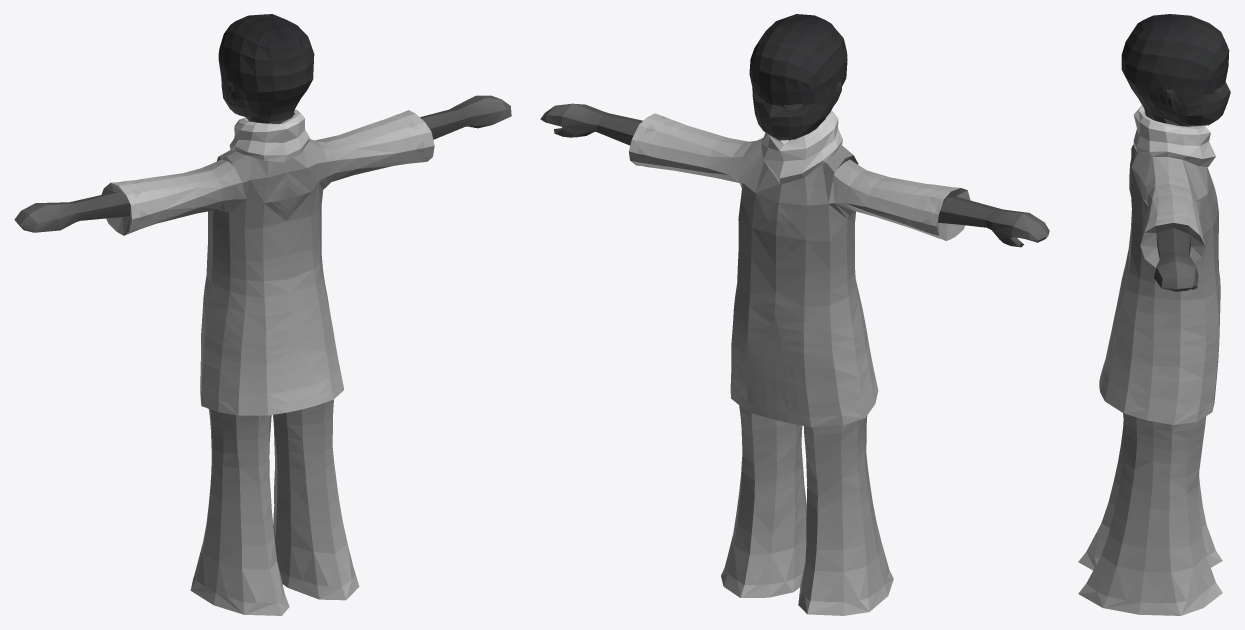
File: CharSkyKid_Body_LongDancePants.glb
3 renders of one model, left to right at view 1: azimuth 30°, elevation 25°; view 2: azimuth 150°, elevation 25°; view 3: azimuth 270°, elevation 25°, orthographic. The views are drawn at different scales.
Parts seen in each view (by area): view 1: CharSkyKid_Body_LongDancePants; view 2: CharSkyKid_Body_LongDancePants; view 3: CharSkyKid_Body_LongDancePants.
Part boxes in pixels (bbox=[...]): CharSkyKid_Body_LongDancePants: bbox=[14, 14, 511, 615]; CharSkyKid_Body_LongDancePants: bbox=[540, 14, 1049, 615]; CharSkyKid_Body_LongDancePants: bbox=[1078, 14, 1230, 615].
Size of the model in its own units: 13.83 by 14.96 by 3.69.
1 material, 1 textured.
